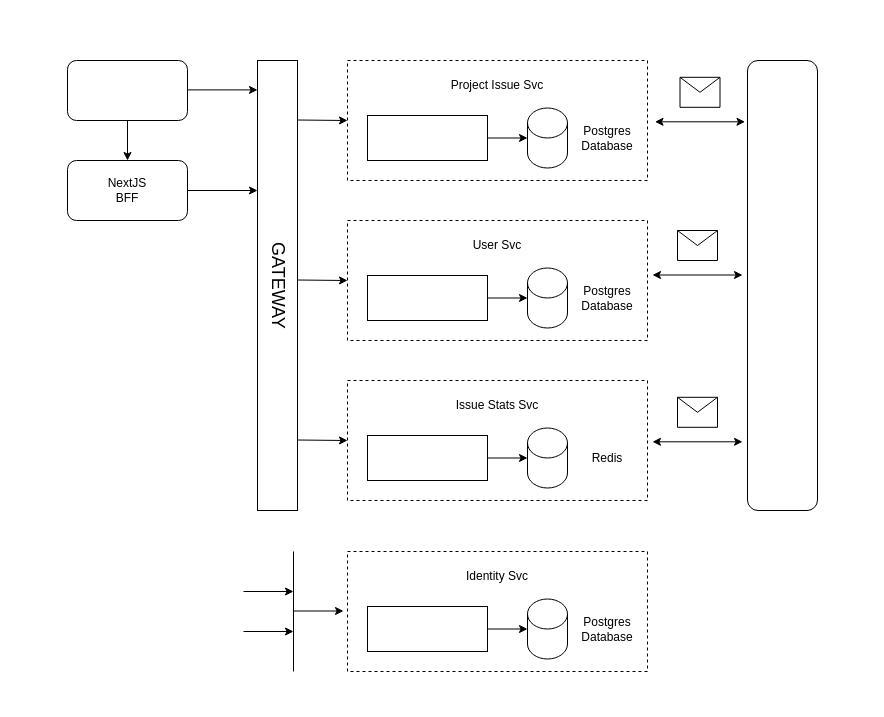
Image size: 884x717. Some labels were removed from this diagram. The shapes that lost their labels are listed below. From the top down, each one's centre as x and y in pixels, then its label:
At pixel 127 90: "NextJS Web App".
At pixel 782 285: "Publish / Subscribe RabbitMQ Event Bus".
